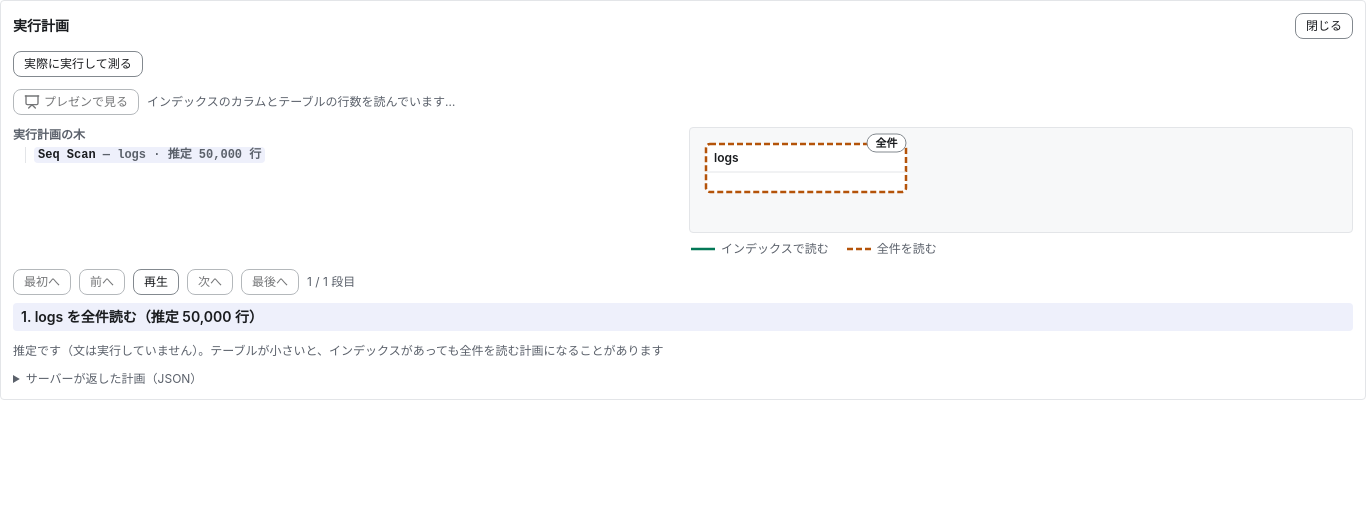
Test case: PlanView › run and measure › runs nothing when the question is put away, and says why a run failed, keeping the estimate
This screenshot has width=1366, height=509.
Click the button "実際に実行して測る".
click(78, 64)  # box [13,51,143,77]
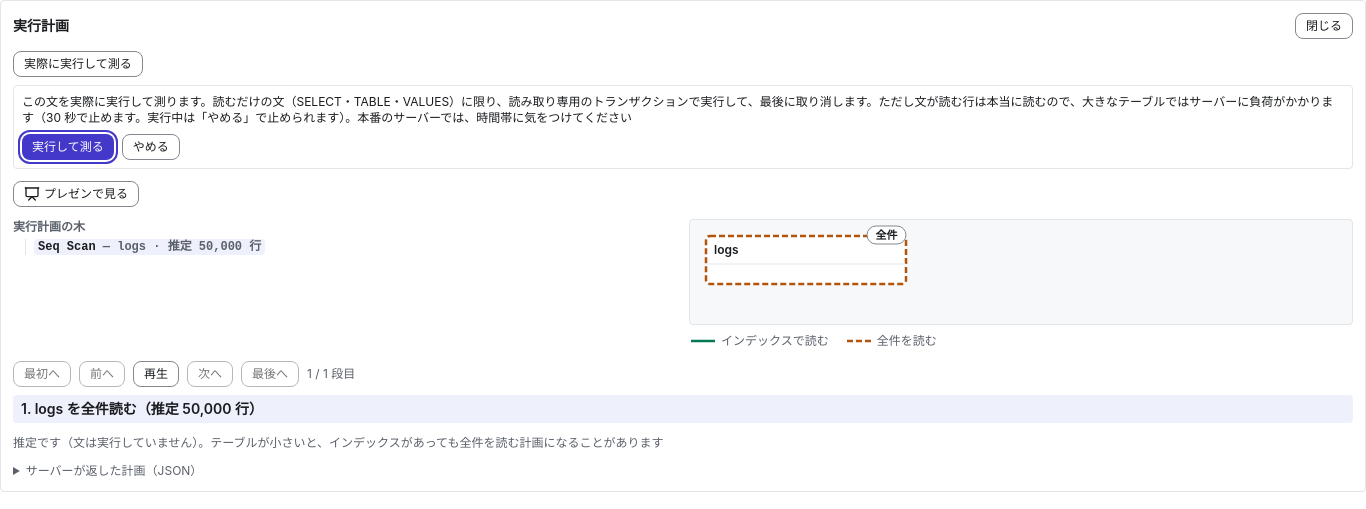
Click the button "やめる".
click(151, 147)  # box [122,134,180,160]
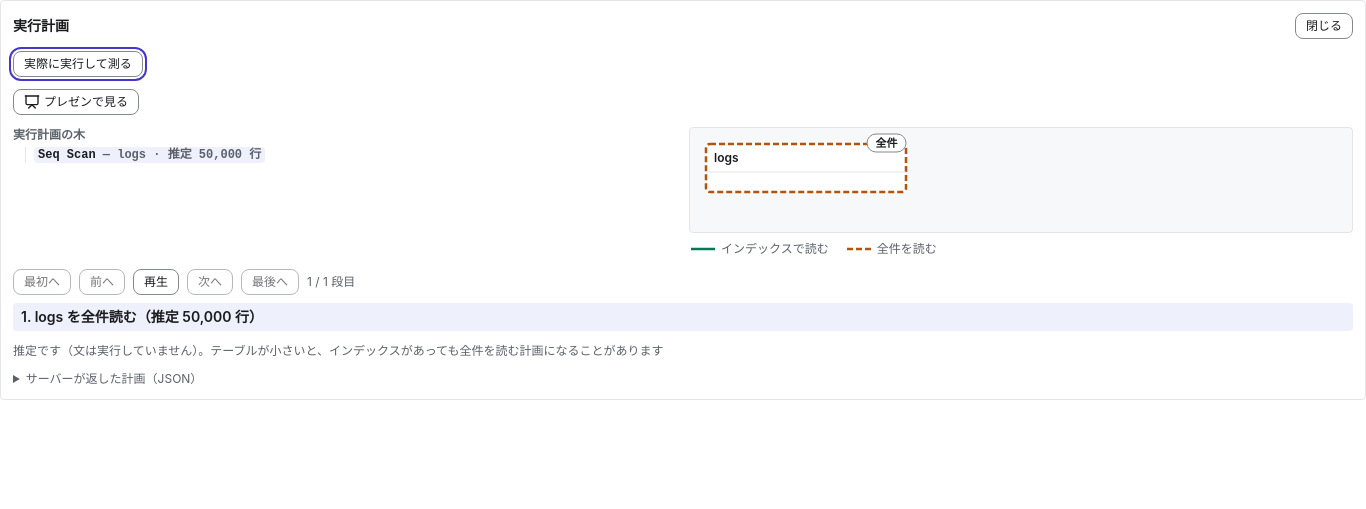
Click the button "実際に実行して測る".
click(78, 64)  # box [13,51,143,77]
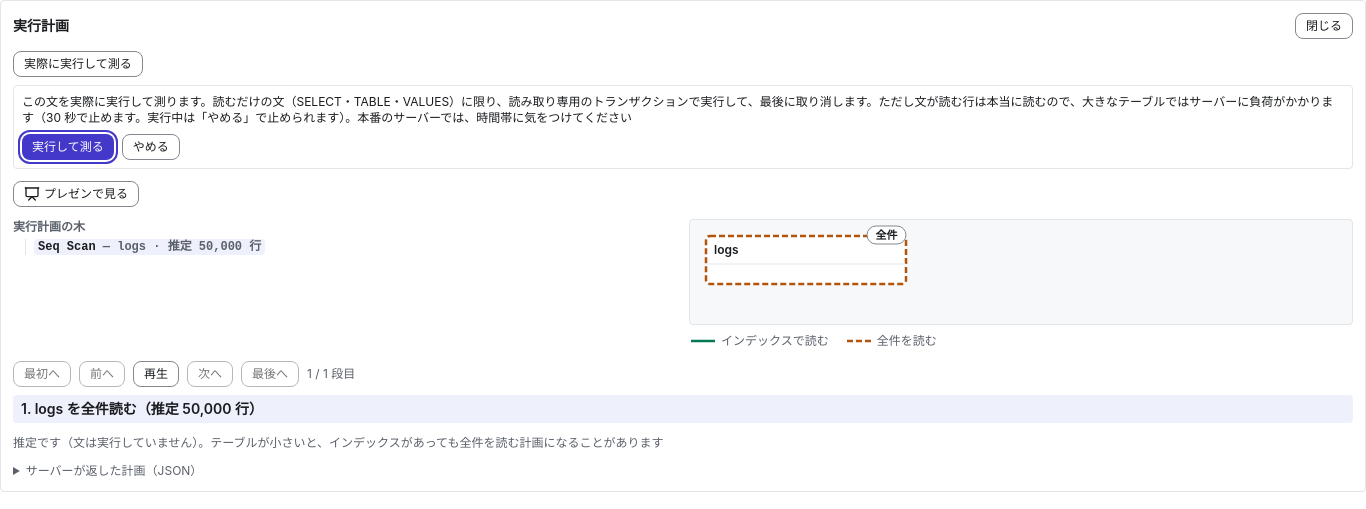
Click the button "実行して測る".
click(68, 147)  # box [22,134,114,160]
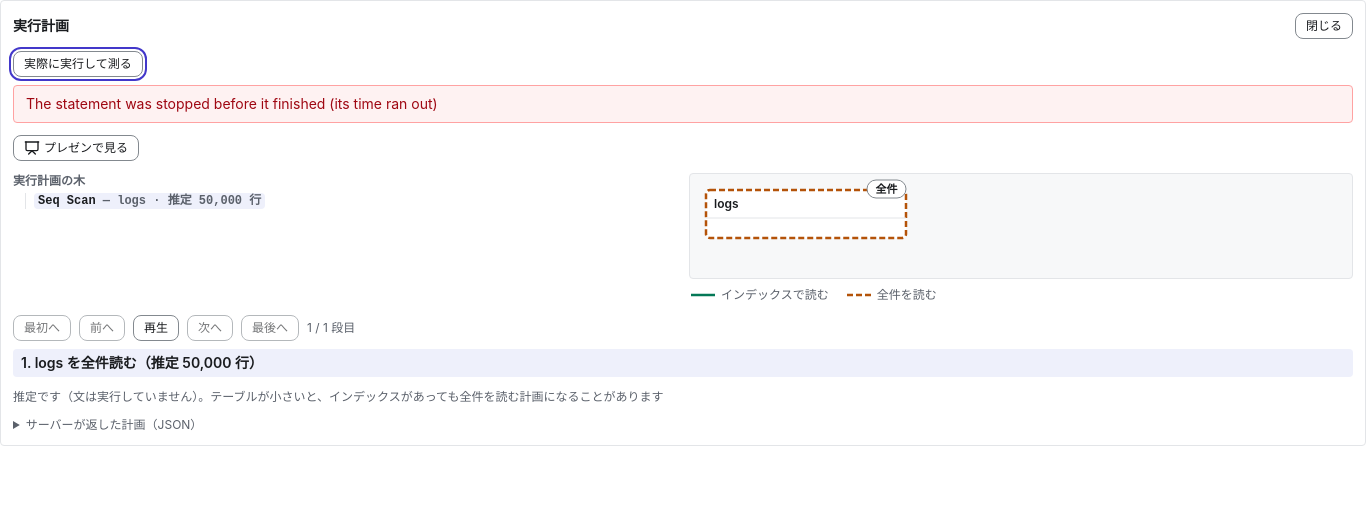
Check: the text "推定です（文は実行していません）。テーブルが小さいと、インデックスがあっても全件を読む計画になることがあります" is shown, box [13,389,664,404]
Check: the text "its time ran out" is shown, box [26,95,438,112]
